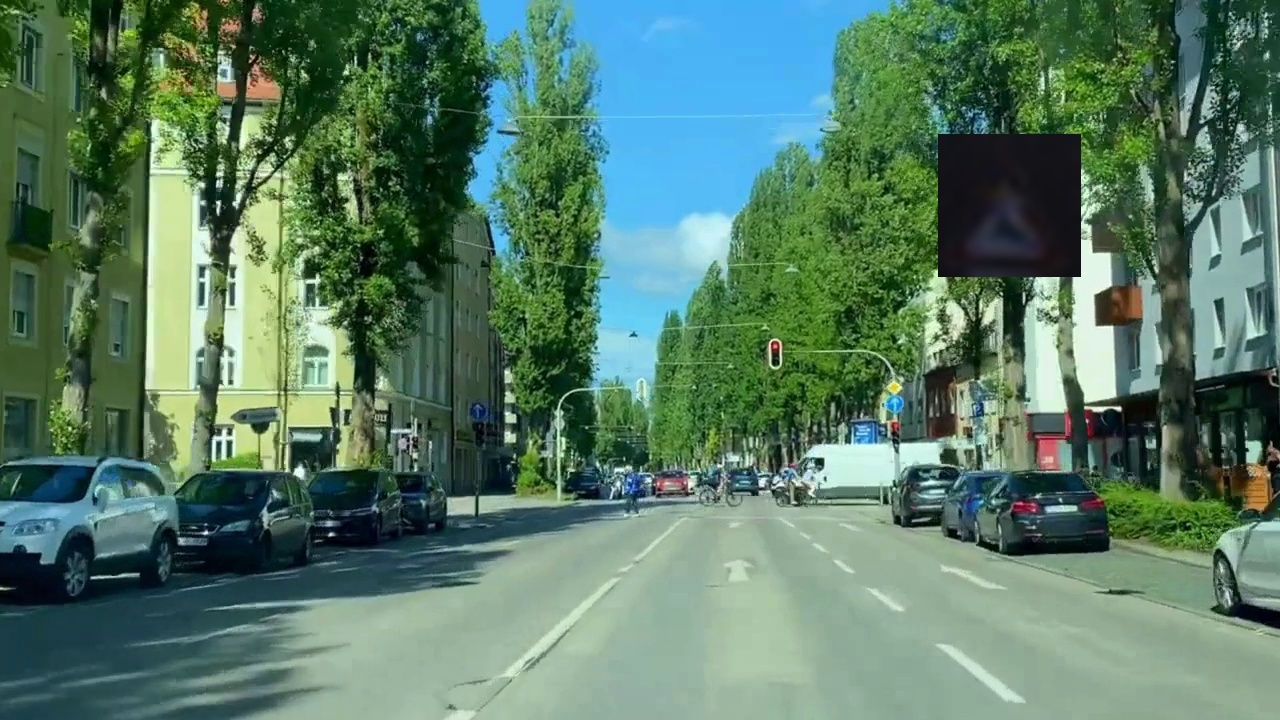Wild animals: (938, 134, 1081, 277)
